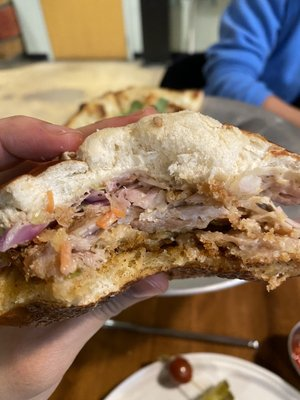sandwich: (0, 107, 300, 324)
